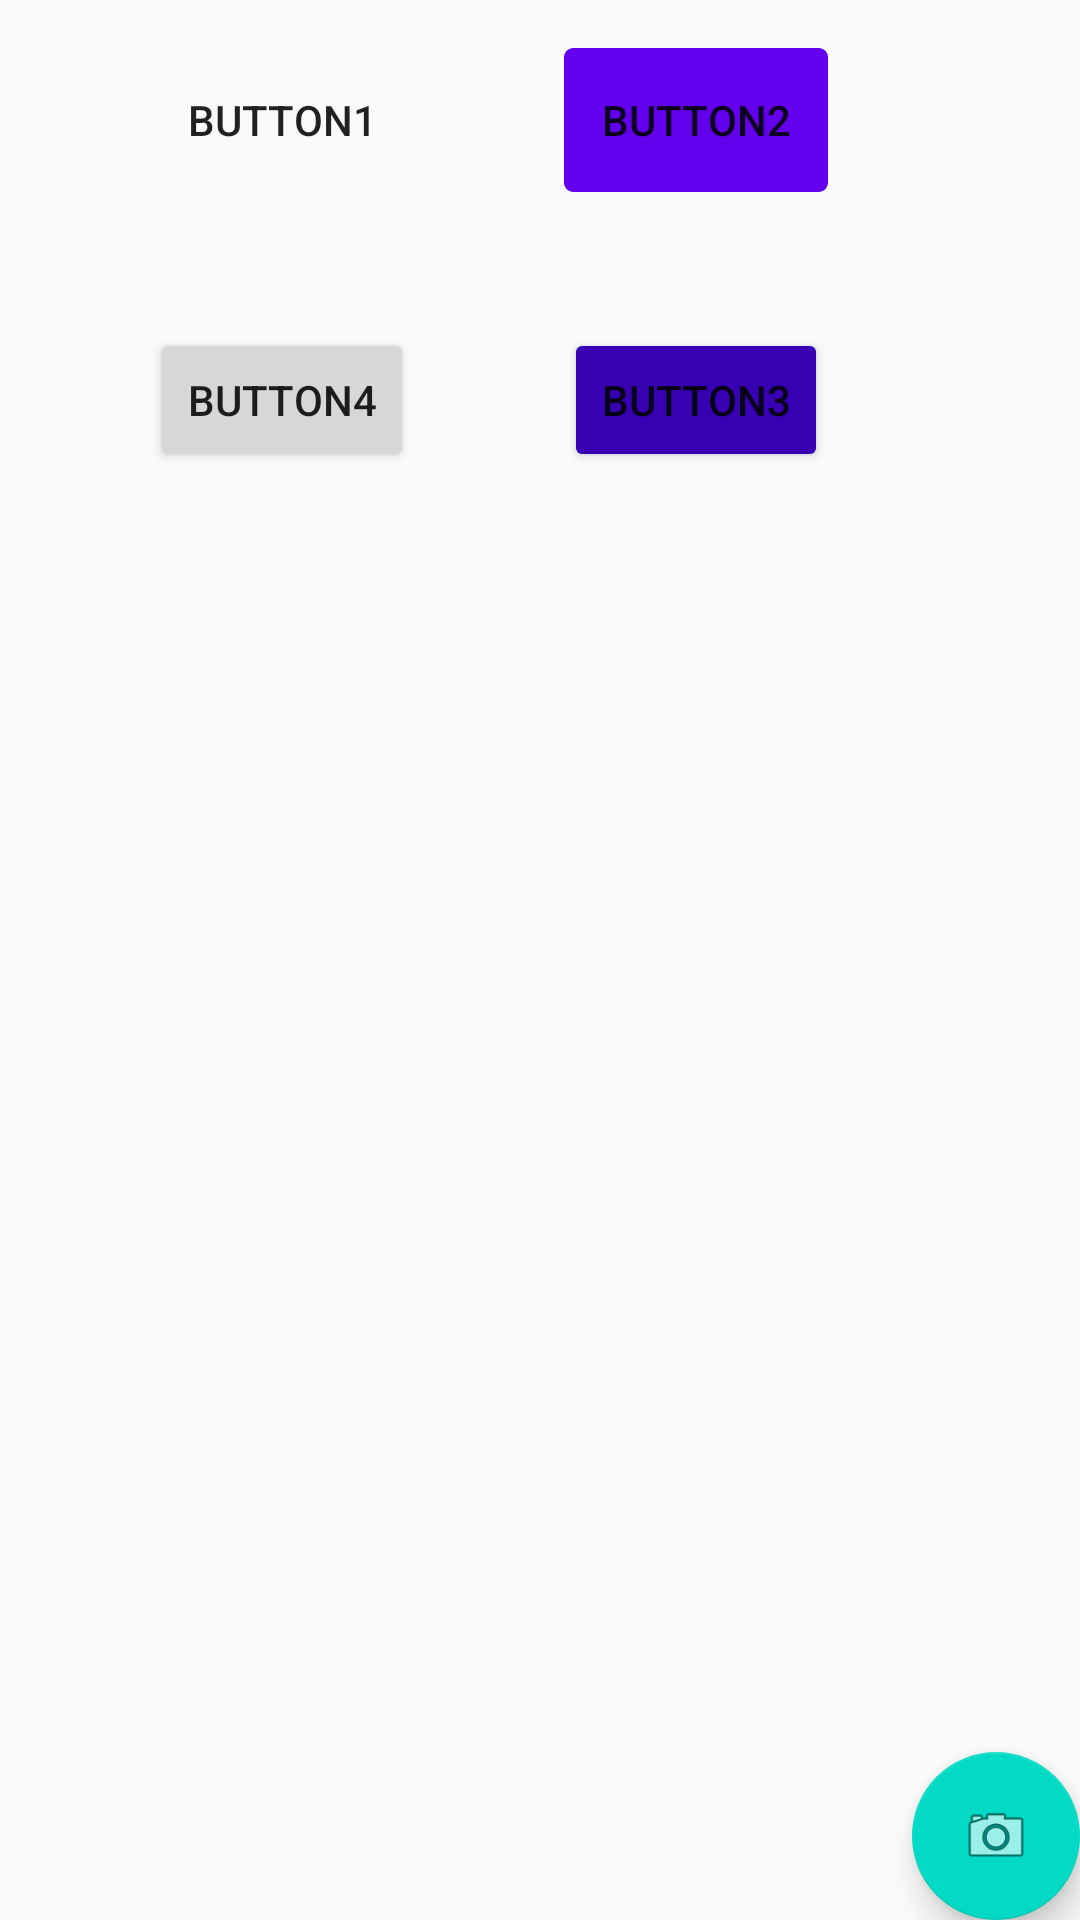

Named icons in this screenshot (1080px x 1920px) and their centers, (x,y):
camera: (996,1836)
